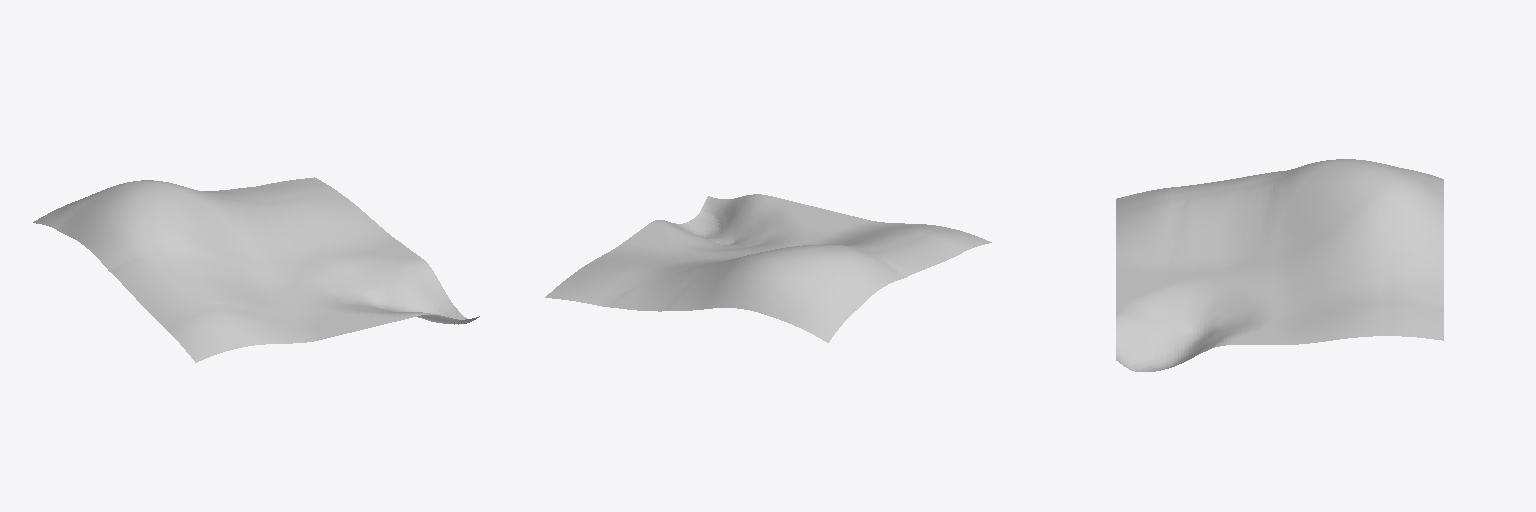
The model's file is first_terrain.obj.
3 renders of one model, left to right at view 1: azimuth 30°, elevation 25°; view 2: azimuth 150°, elevation 25°; view 3: azimuth 270°, elevation 25°, orthographic.
Visible parts, largest first — view 1: Plane; view 2: Plane; view 3: Plane.
Part boxes in pixels (x1,y1,x2,y2): Plane: (33,177,479,362); Plane: (545,194,991,342); Plane: (1116,159,1443,371).
Bounding box in the file's own units: 20 × 6.65 × 20.01.